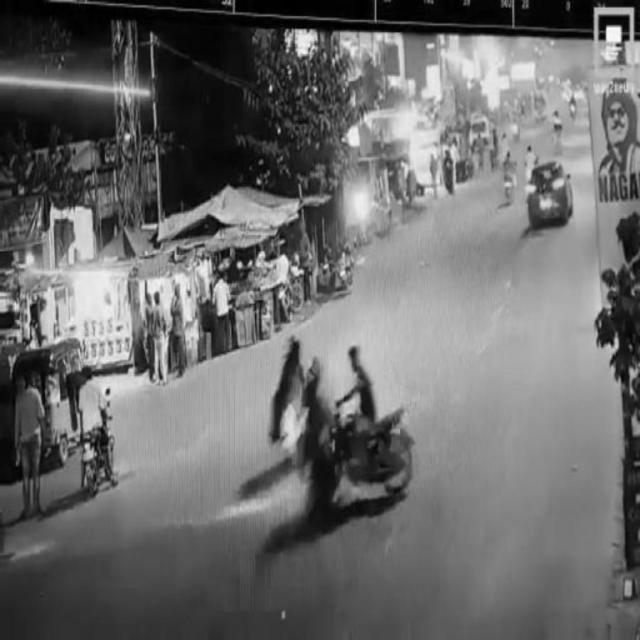accident: (300, 350, 422, 522)
person: (16, 376, 44, 516), (150, 290, 170, 391), (214, 272, 234, 352)
vehicle: (20, 340, 94, 466), (77, 365, 111, 495), (276, 338, 308, 454), (526, 166, 573, 222), (499, 151, 517, 206)
